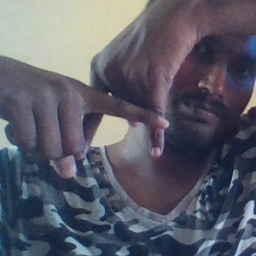H: (61, 53, 180, 170)
